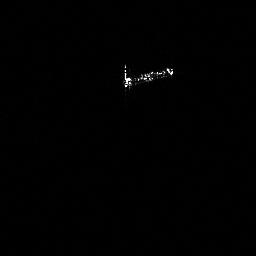ship: (118, 61, 177, 93)
